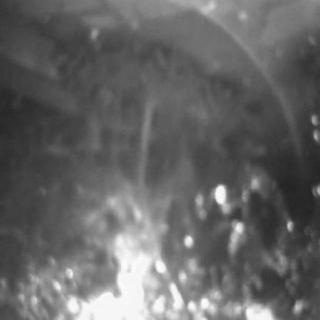other: (84, 197, 174, 313)
